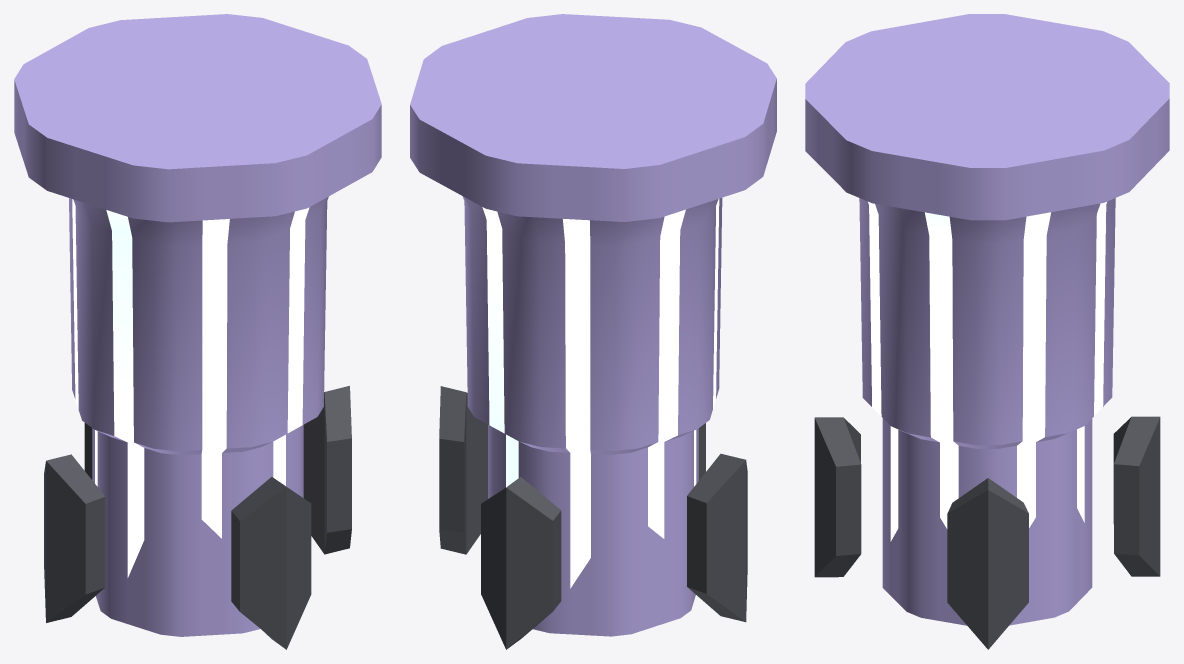
Rendered from vrch1.fbx.
3 views of the same model, side by side, from view 1: azimuth 30°, elevation 25°; view 2: azimuth 150°, elevation 25°; view 3: azimuth 270°, elevation 25° (orthographic).
Visible parts, largest first — view 1: Circle.012; view 2: Circle.012; view 3: Circle.012.
Boxes of the visible parts, x1,y1,x2,y2 form: Circle.012: (14, 14, 381, 649); Circle.012: (410, 14, 776, 649); Circle.012: (805, 14, 1169, 649).
Bounding box in the file's own units: 240 × 357 × 240.
